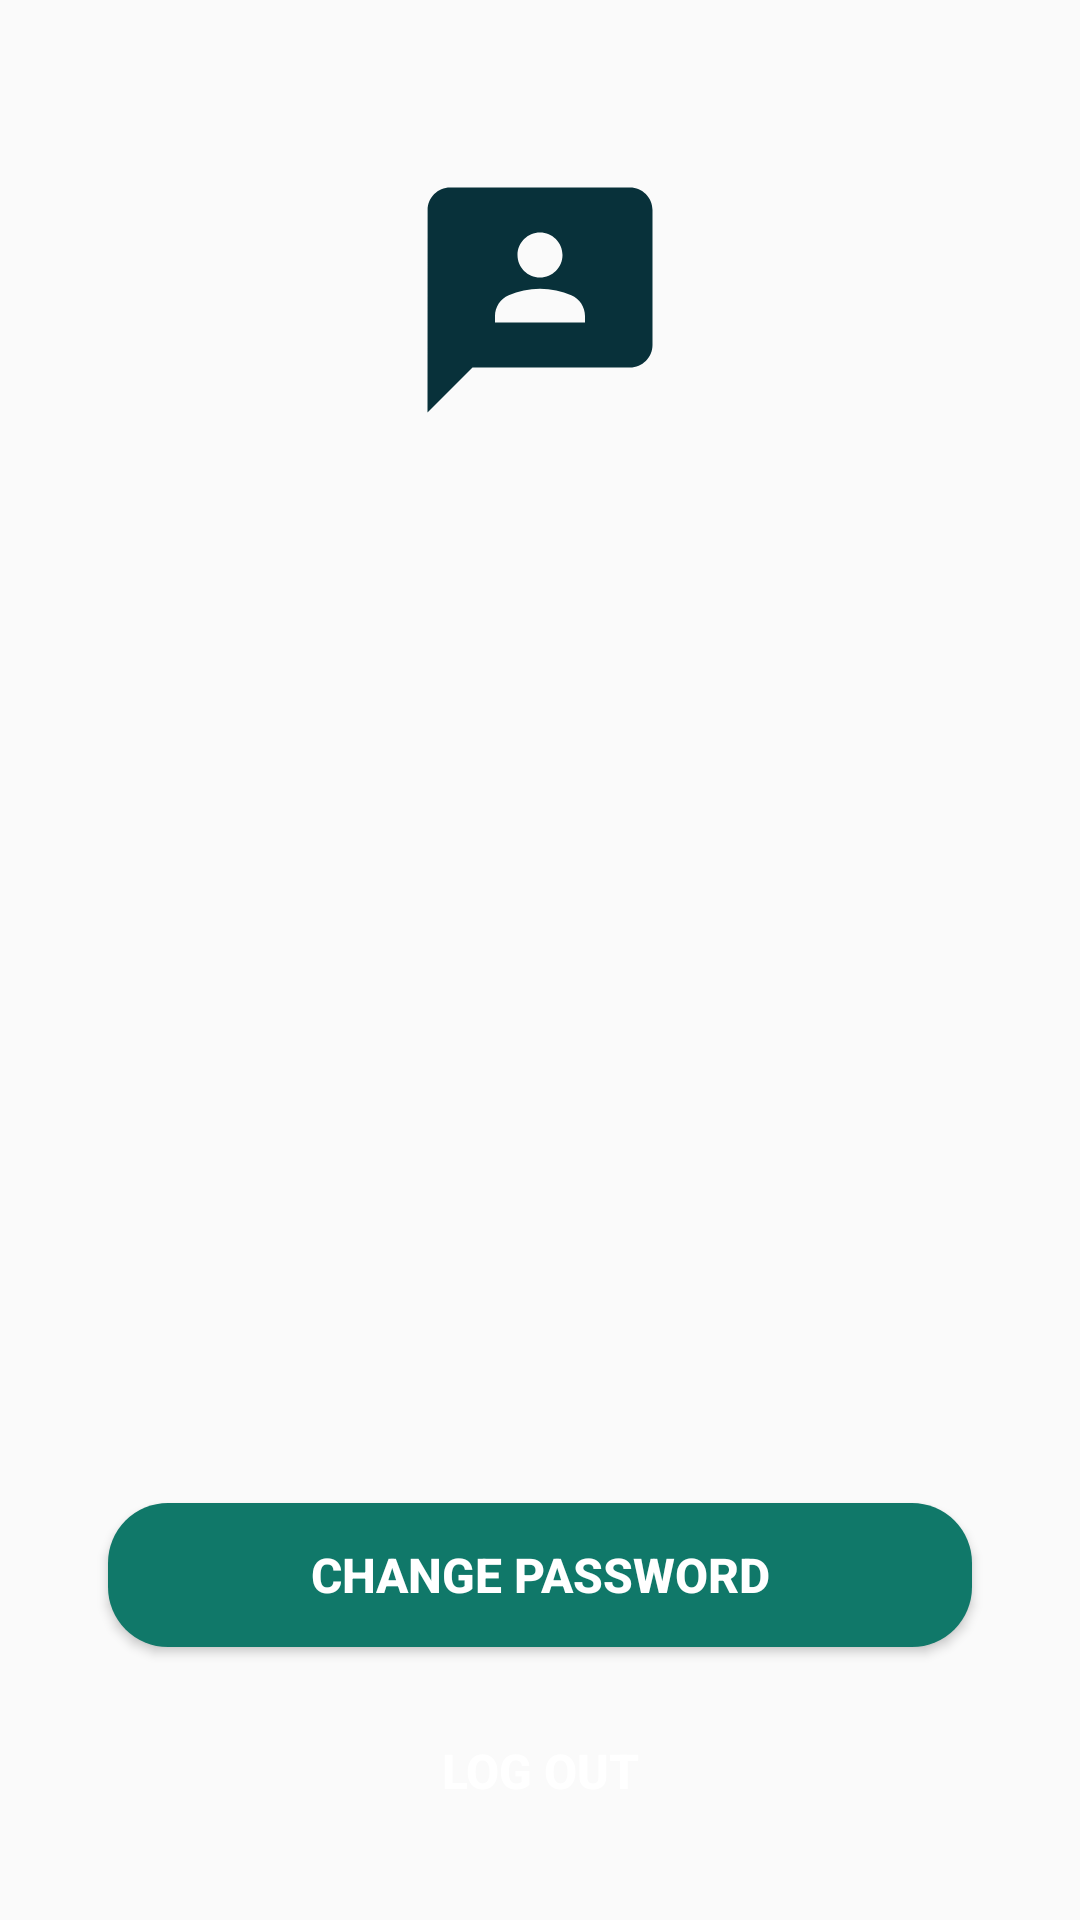

Icons on this 1080px×1920px Android screen, each with the point to tap as point (x, y):
user: point (540, 300)
